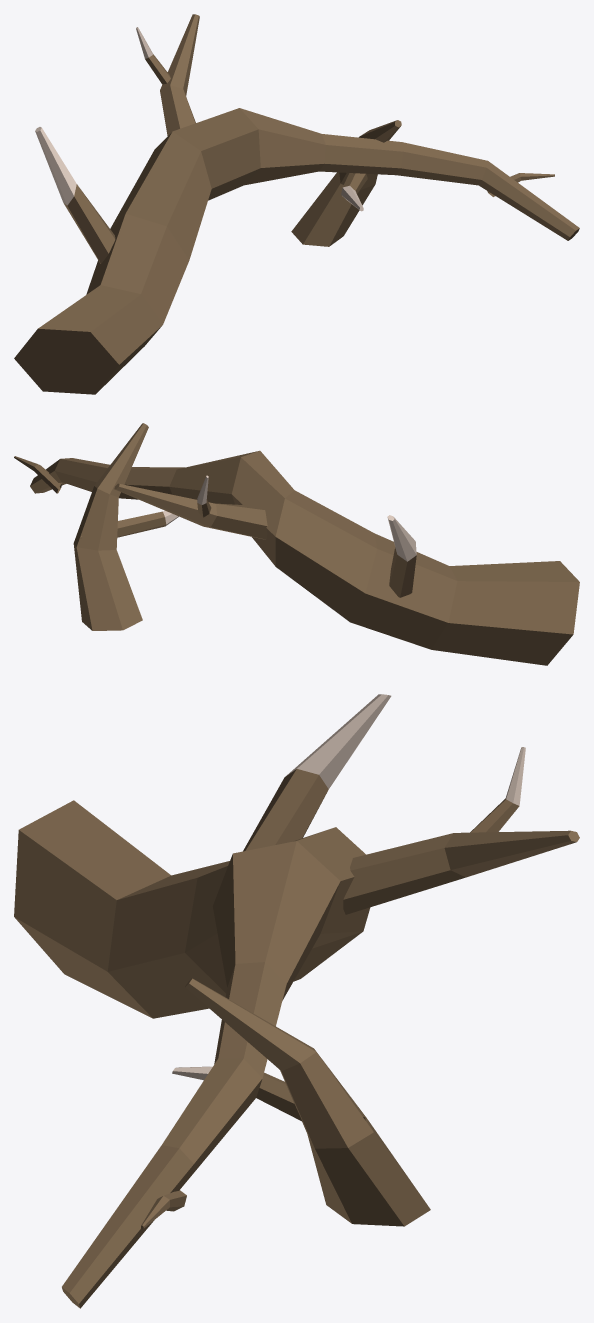
File: branch_fence_1.glb
3 views of the same model, one above another, from view 1: azimuth 30°, elevation 25°; view 2: azimuth 150°, elevation 25°; view 3: azimuth 270°, elevation 25° (orthographic). The views are drawn at different scales.
Visible parts, largest first — view 1: branch_fence_1; view 2: branch_fence_1; view 3: branch_fence_1.
Boxes of the visible parts, x1=… form: branch_fence_1: x1=14, y1=14, x2=579, y2=394; branch_fence_1: x1=14, y1=423, x2=579, y2=665; branch_fence_1: x1=14, y1=694, x2=579, y2=1308.
Bounding box in the file's own units: 1.9 × 0.7351 × 1.01.
Materials: 1 (1 with a texture image).
